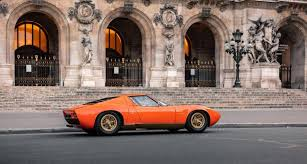Lamborghini: (64, 93, 221, 136)
